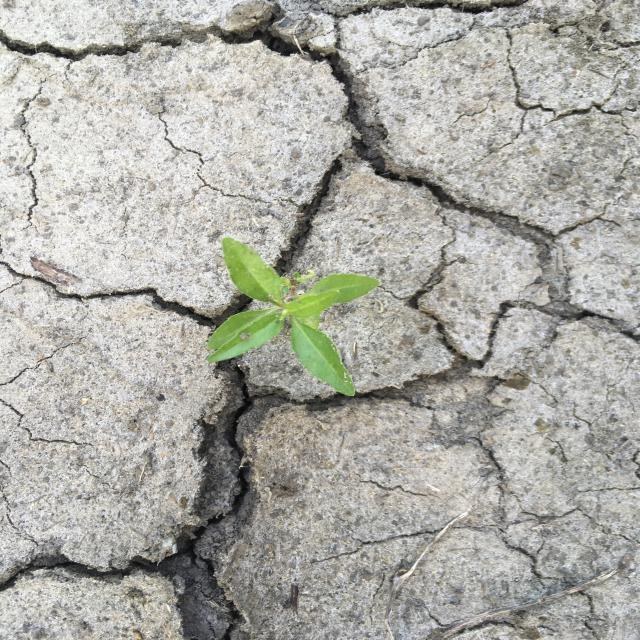Eclipta: (203, 235, 383, 398)
